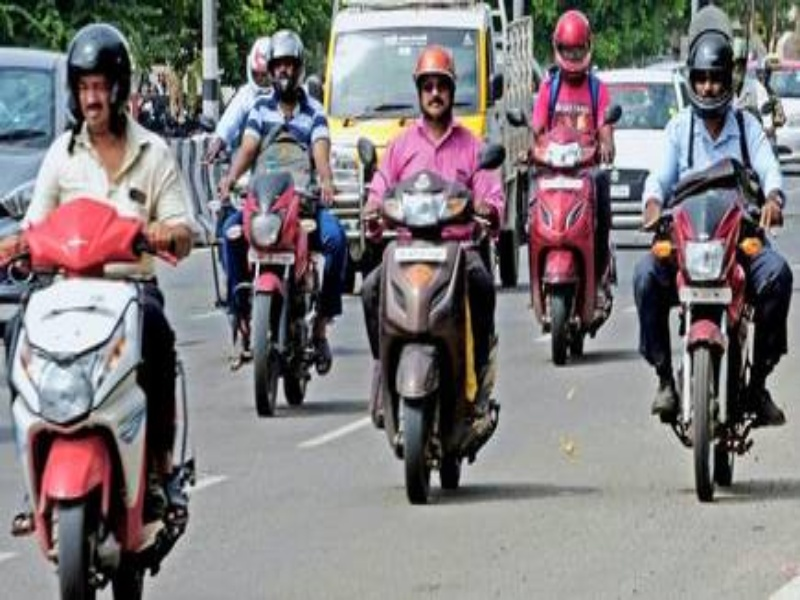helmet: (54, 17, 142, 142), (675, 1, 742, 121), (404, 39, 465, 126), (546, 4, 601, 82), (264, 27, 307, 104), (242, 34, 271, 94)
